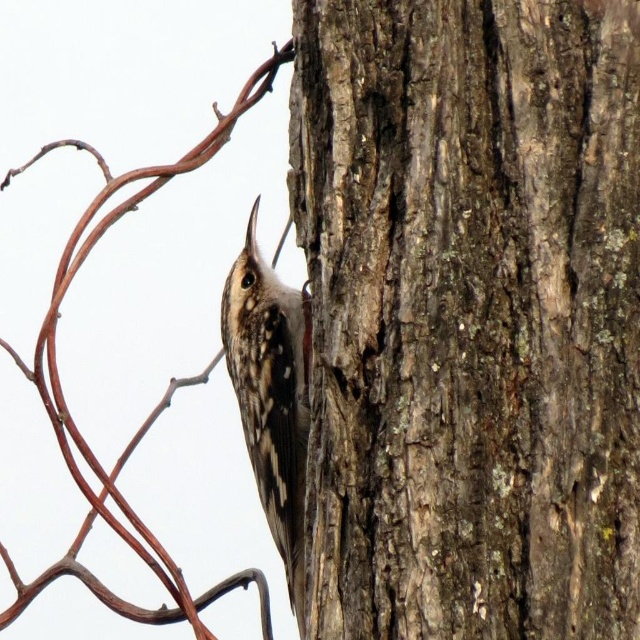Woodpecker: (220, 193, 313, 640)
